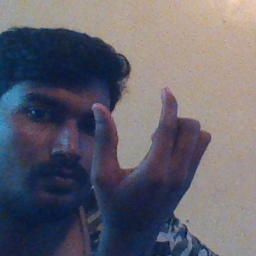U: (88, 78, 215, 224)
